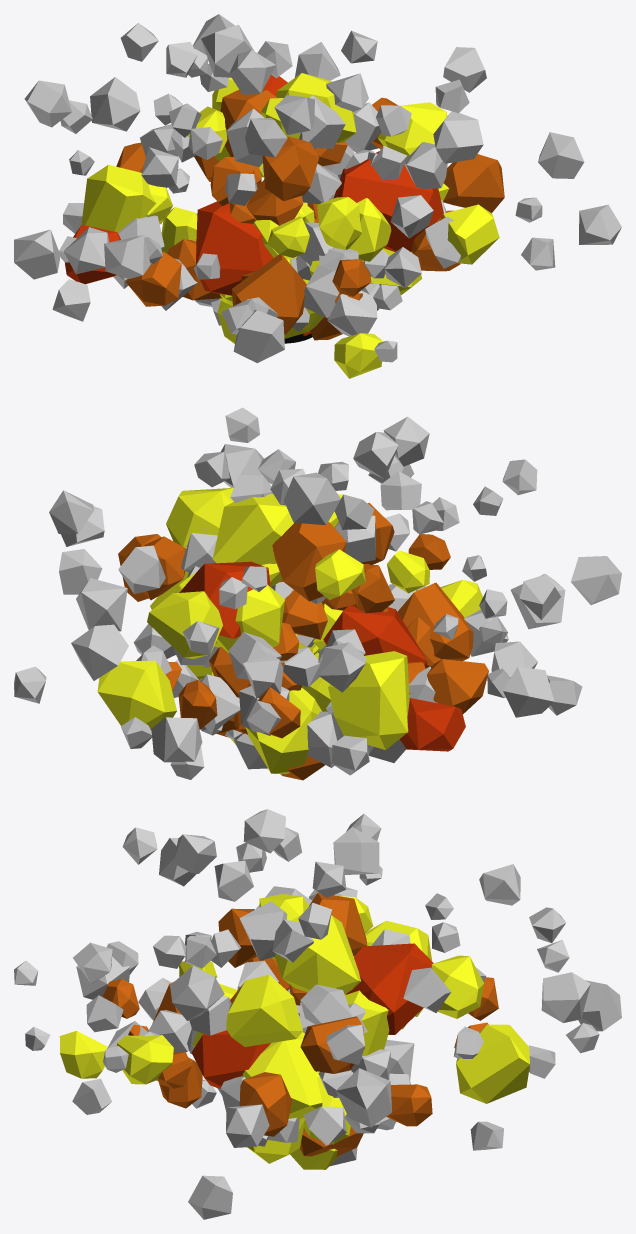
File: Explosion0028.obj
3 renders of one model, top to bottom at view 1: azimuth 30°, elevation 25°; view 2: azimuth 150°, elevation 25°; view 3: azimuth 270°, elevation 25°, orthographic. The views are drawn at different scales.
Visible parts, largest first — view 1: Cube_Material, Cube.002_Material.003, Cube.001_Material.002, Cube.003_Material.004; view 2: Cube_Material, Cube.002_Material.003, Cube.001_Material.002, Cube.003_Material.004; view 3: Cube_Material, Cube.002_Material.003, Cube.001_Material.002, Cube.003_Material.004.
Part boxes in pixels (x1,y1,x2,y2): Cube_Material: (14,14,621,363); Cube.002_Material.003: (81,73,499,378); Cube.001_Material.002: (116,89,504,340); Cube.003_Material.004: (64,74,443,336); Cube_Material: (14,407,621,779); Cube.002_Material.003: (97,488,482,774); Cube.001_Material.002: (118,502,488,780); Cube.003_Material.004: (179,561,465,751); Cube_Material: (14,809,621,1219); Cube.002_Material.003: (59,894,529,1169); Cube.001_Material.002: (102,893,498,1156); Cube.003_Material.004: (191,943,433,1088).
Bounding box in the file's own units: 16.07 × 9.04 × 15.66.
